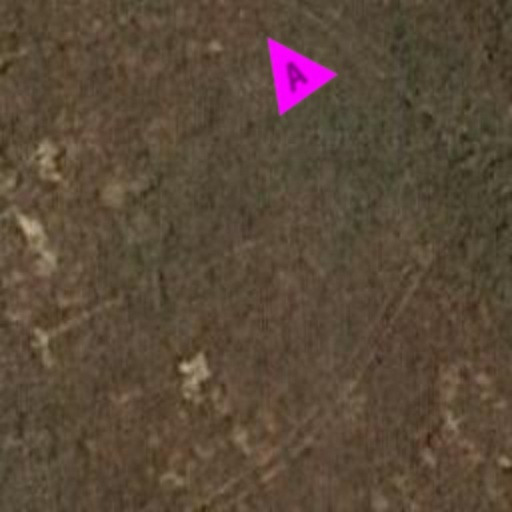triangle: (238, 16, 338, 116)
